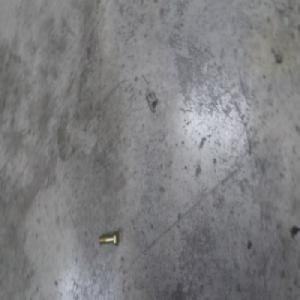Bolt: (100, 224, 122, 244)
